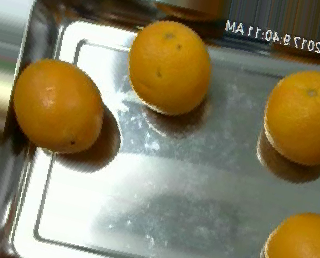Orange: (12, 58, 103, 153), (129, 20, 213, 115), (262, 68, 319, 167)
